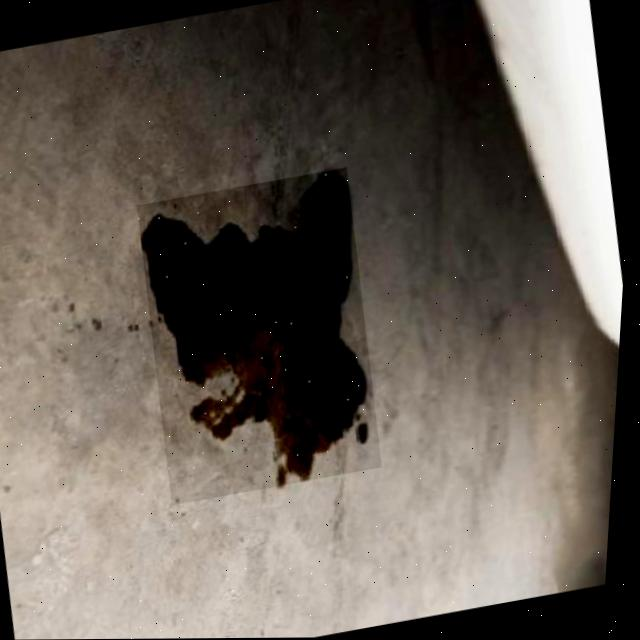spillage: (141, 170, 370, 485)
